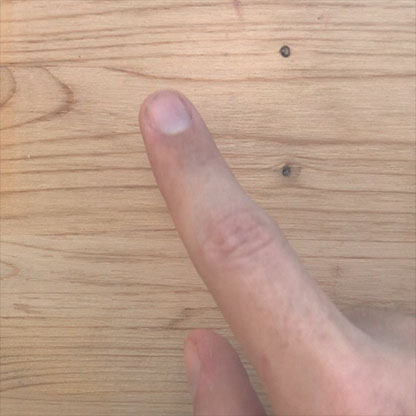fingertip: (131, 85, 216, 152)
